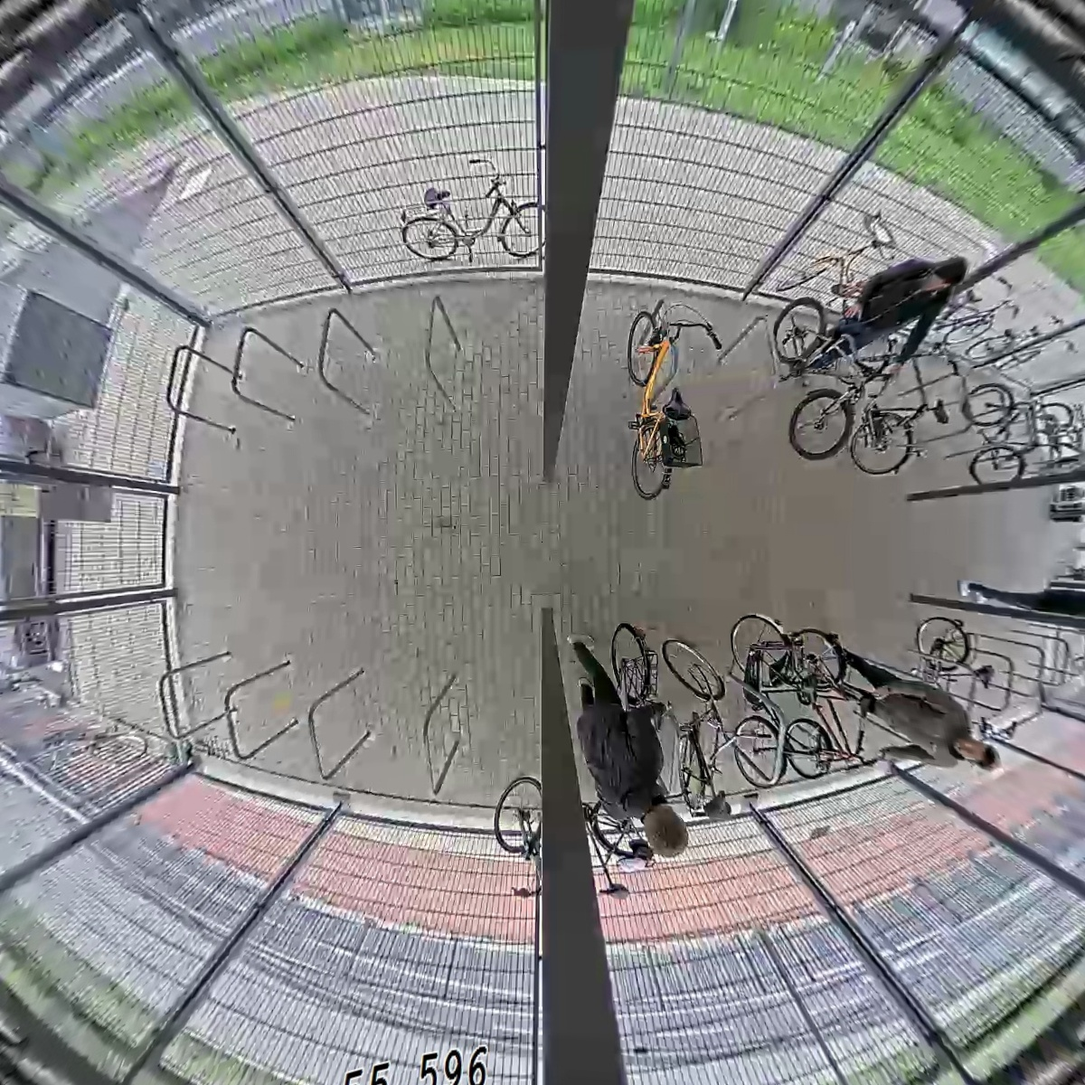bicylce: (726, 605, 866, 788), (655, 625, 771, 831), (479, 771, 673, 888), (770, 297, 875, 460), (783, 611, 883, 781), (621, 298, 703, 503), (828, 320, 933, 476), (597, 610, 666, 840), (958, 379, 1047, 491)
saddle: (699, 784, 736, 828), (658, 381, 694, 421), (593, 877, 634, 909), (795, 668, 822, 706), (925, 392, 952, 428), (973, 657, 1000, 692), (840, 297, 861, 330), (855, 691, 874, 720), (1047, 428, 1063, 455)
